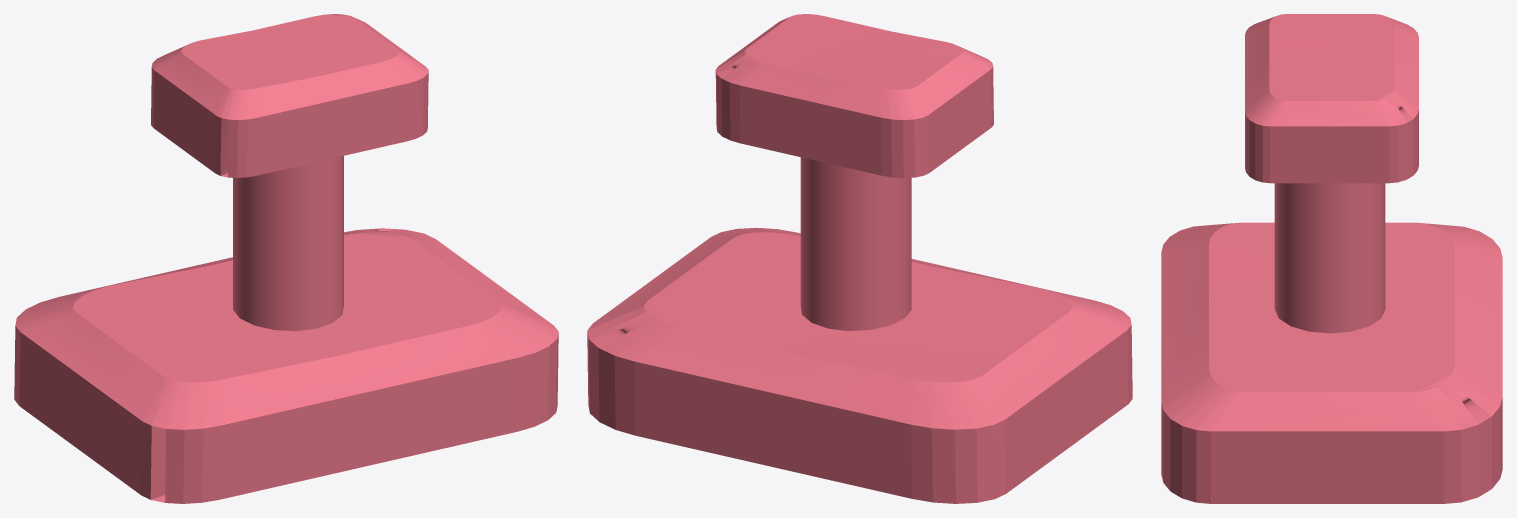
Rendered from stamp1.fbx.
3 views of the same model, side by side, from view 1: azimuth 30°, elevation 25°; view 2: azimuth 150°, elevation 25°; view 3: azimuth 270°, elevation 25° (orthographic).
Parts seen in each view (by area): view 1: Cube_1, Cube, Cylinder; view 2: Cube_1, Cube, Cylinder; view 3: Cube_1, Cube, Cylinder.
Boxes of the visible parts, x1,y1,x2,y2 form: Cube_1: (14,228,558,503); Cube: (151,14,428,177); Cylinder: (233,156,343,331); Cube_1: (587,227,1132,503); Cube: (715,14,993,178); Cylinder: (800,157,911,330); Cube_1: (1161,222,1502,503); Cube: (1245,14,1418,183); Cylinder: (1274,183,1385,333).
Size of the model in its own units: 277 by 227 by 200.
